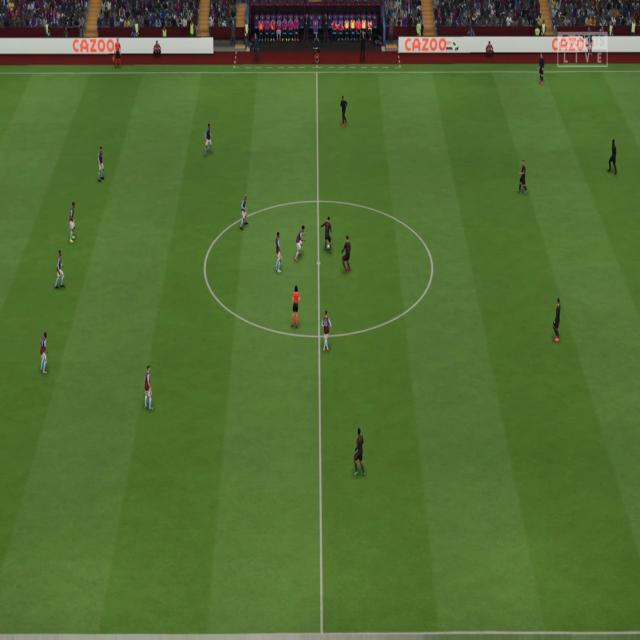Referee: (290, 284, 302, 330)
Team-A: (353, 429, 368, 477), (552, 298, 562, 343), (606, 139, 618, 176), (340, 236, 352, 272), (323, 218, 335, 254), (518, 160, 528, 193), (340, 97, 350, 129), (539, 55, 548, 85)
Team-H: (53, 248, 66, 288), (274, 232, 286, 274), (320, 309, 331, 351), (144, 367, 154, 412), (295, 226, 307, 262), (40, 334, 50, 376), (68, 202, 78, 244), (203, 123, 213, 157), (240, 194, 250, 228), (97, 147, 105, 181)
